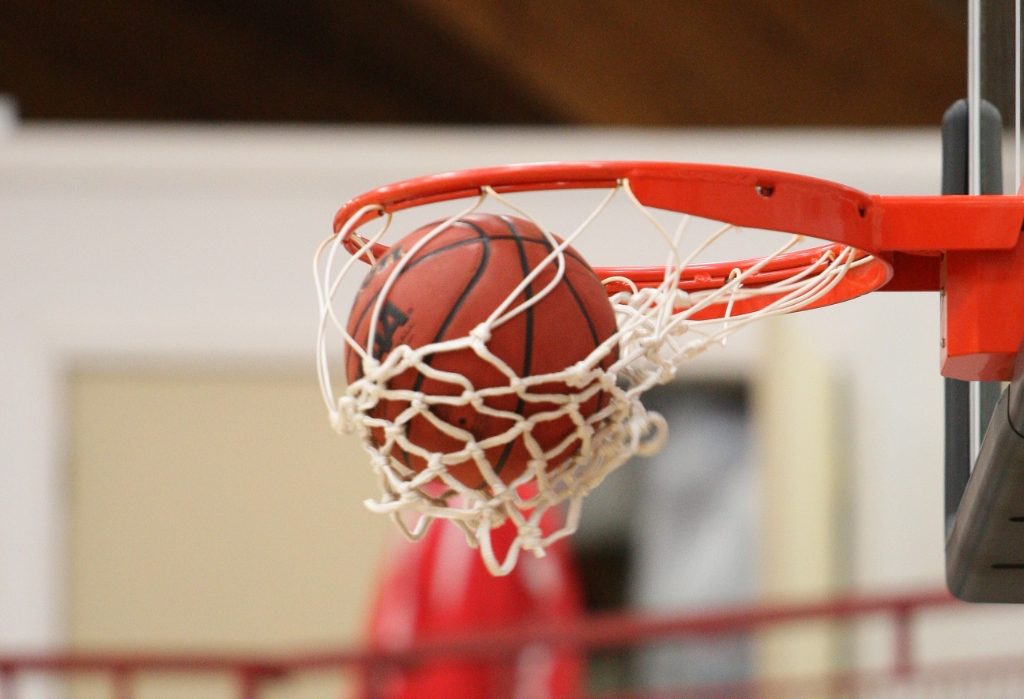MadeBasket: (315, 160, 894, 575)
